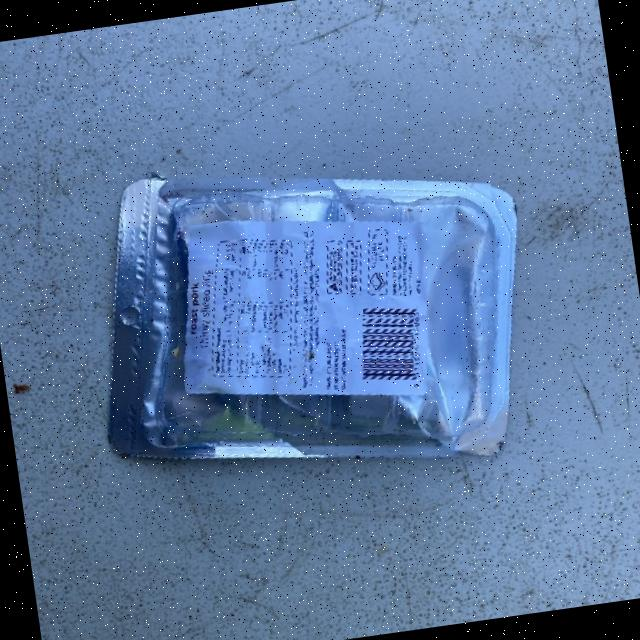plastic: (72, 124, 550, 508)
